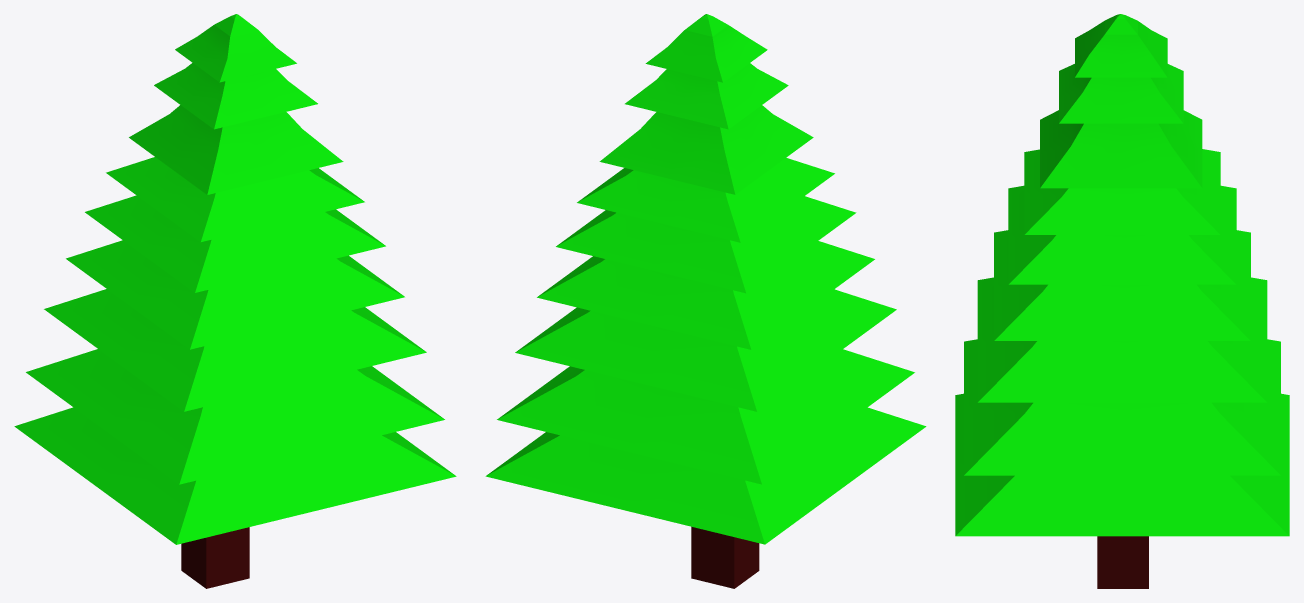
Rendered from Tree6.fbx.
The picture shows the model from 3 angles, left to right: view 1: azimuth 30°, elevation 25°; view 2: azimuth 150°, elevation 25°; view 3: azimuth 270°, elevation 25°; orthographic projection. The views are drawn at different scales.
Parts seen in each view (by area): view 1: polySurface45; view 2: polySurface45; view 3: polySurface45.
Part boxes in pixels (x1,y1,x2,y2): polySurface45: [14, 14, 456, 588]; polySurface45: [485, 14, 926, 588]; polySurface45: [955, 14, 1289, 588].
Bounding box in the file's own units: 4.21 × 7.97 × 4.21.
